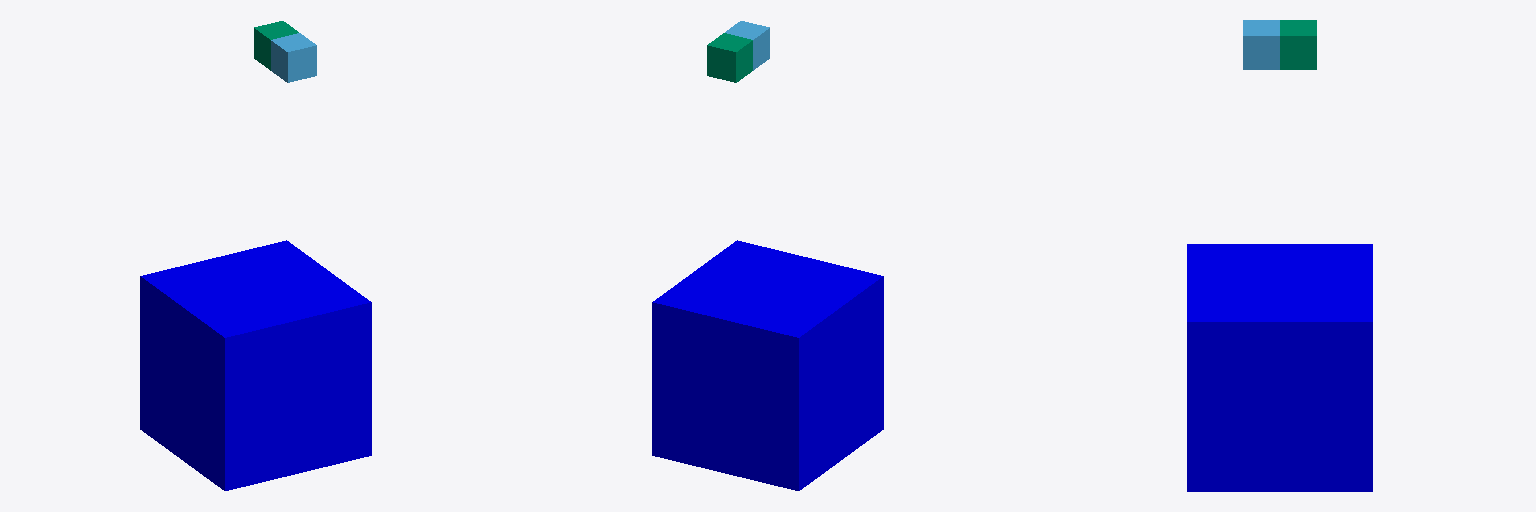
URDF robot description (stereo_camera):
<?xml version="1.0"?>
<robot name="stereo_camera"
    xmlns:xacro="http://www.ros.org/wiki/xacro">
    <!-- Base Link -->
    <link name="base_link">
        <visual>
            <geometry>
                <box size="0.5 0.5 0.5"/>
            </geometry>
            <material name="blue">
                <color rgba="0 0 1 1"/>
            </material>
        </visual>
        <collision>
            <geometry>
                <box size="0.5 0.5 0.5"/>
            </geometry>
        </collision>
        <inertial>
            <mass value="5.0"/>
            <origin xyz="0 0 0"/>
            <inertia ixx="0.1" ixy="0.0" ixz="0.0" iyy="0.1" iyz="0.0" izz="0.1"/>
        </inertial>
    </link>

    <!-- Left Camera Link -->
    <link name="left_camera_link">
        <visual>
            <origin xyz="0 0 0" rpy="0 0 0"/>
            <geometry>
                <box size="0.1 0.1 0.1"/>
            </geometry>
        </visual>
        <collision>
            <origin xyz="0 0 0" rpy="0 0 0"/>
            <geometry>
                <box size="0.1 0.1 0.1"/>
            </geometry>
        </collision>
    </link>

    <!-- Right Camera Link -->
    <link name="right_camera_link">
        <visual>
            <origin xyz="0 0 0" rpy="0 0 0"/>
            <geometry>
                <box size="0.1 0.1 0.1"/>
            </geometry>
        </visual>
        <collision>
            <origin xyz="0 0 0" rpy="0 0 0"/>
            <geometry>
                <box size="0.1 0.1 0.1"/>
            </geometry>
        </collision>
    </link>

    <!-- Left Camera Joint -->
    <joint name="left_camera_joint" type="fixed">
        <parent link="base_link"/>
        <child link="left_camera_link"/>
        <origin xyz="0.1 -0.05 1.0" rpy="0 0 0"/>
    </joint>

    <!-- Right Camera Joint -->
    <joint name="right_camera_joint" type="fixed">
        <parent link="base_link"/>
        <child link="right_camera_link"/>
        <origin xyz="0.1 0.05 1.0" rpy="0 0 0"/>
    </joint>

    <!-- Left Camera Plugin -->
    <gazebo reference="left_camera_link">
        <sensor name="left_rgb_camera" type="camera">
            <visualize>true</visualize>
            <update_rate>20</update_rate>
            <camera>
                <horizontal_fov>2.14875</horizontal_fov>
                <!-- this H_fov is assuming 1920 sensor width and 520 pixels as focal length -->
                <image>
                    <width>1920</width>
                    <height>1080</height>
                    <format>R8G8B8</format>
                </image>
                <clip>
                    <near>0.05</near>
                    <far>30</far>
                </clip>
            </camera>
            <plugin name="left_camera_controller" filename="libgazebo_ros_camera.so">
                <robotNamespace>/stereo_camera</robotNamespace>
                <tf_prefix>stereo_camera</tf_prefix>
                <cameraName>left_camera_rgb</cameraName>
                <imageTopicName>/camera/left/color/image_raw</imageTopicName>
                <cameraInfoTopicName>/camera/left/color/camera_info</cameraInfoTopicName>
                <frameName>left_camera_link</frameName>
            </plugin>
        </sensor>
    </gazebo>

    <!-- Right Camera Plugin -->
    <gazebo reference="right_camera_link">
        <sensor name="right_rgb_camera" type="camera">
            <visualize>true</visualize>
            <update_rate>20</update_rate>
            <camera>
                <horizontal_fov>2.14875</horizontal_fov>
                <!-- this H_fov is assuming 1920 sensor width and 520 pixels as focal length -->
                <image>
                    <width>1920</width>
                    <height>1080</height>
                    <format>R8G8B8</format>
                </image>
                <clip>
                    <near>0.05</near>
                    <far>30</far>
                </clip>
            </camera>
            <plugin name="right_camera_controller" filename="libgazebo_ros_camera.so">
                <robotNamespace>/stereo_camera</robotNamespace>
                <tf_prefix>stereo_camera</tf_prefix>
                <cameraName>right_camera_rgb</cameraName>
                <imageTopicName>/camera/right/color/image_raw</imageTopicName>
                <cameraInfoTopicName>/camera/right/color/camera_info</cameraInfoTopicName>
                <frameName>right_camera_link</frameName>
            </plugin>
        </sensor>
    </gazebo>
</robot>

--- Facts derived from the render (not from the file) ---
Views: 3 orthographic renders of the robot side by side, from view 1: azimuth 30°, elevation 25°; view 2: azimuth 150°, elevation 25°; view 3: azimuth 270°, elevation 25°.
Robot: stereo_camera — 3 links, 2 joints (2 fixed); root link base_link; default pose: all joints at 0.
Visible links, largest first — view 1: base_link, left_camera_link, right_camera_link; view 2: base_link, right_camera_link, left_camera_link; view 3: base_link, left_camera_link, right_camera_link.
Link boxes in pixels (x1=…): base_link: x1=140, y1=240, x2=371, y2=490; left_camera_link: x1=271, y1=33, x2=316, y2=82; right_camera_link: x1=254, y1=21, x2=298, y2=70; base_link: x1=652, y1=240, x2=883, y2=490; right_camera_link: x1=707, y1=33, x2=752, y2=82; left_camera_link: x1=725, y1=21, x2=769, y2=70; base_link: x1=1187, y1=244, x2=1372, y2=491; left_camera_link: x1=1243, y1=20, x2=1279, y2=69; right_camera_link: x1=1280, y1=20, x2=1316, y2=69.
Size in the robot's own frame: 0.5 by 0.5 by 1.3 metres.
Geometry: primitives only (box / cylinder / sphere), no mesh files.
